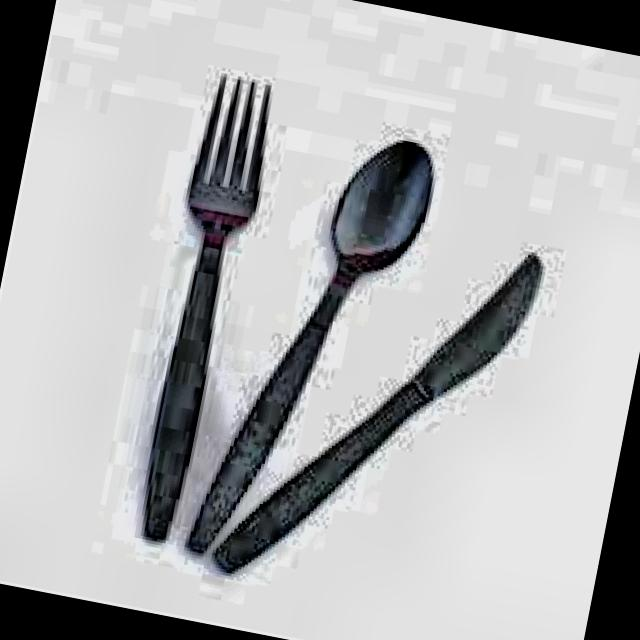plastic utensil: (214, 256, 537, 571), (187, 144, 433, 552), (148, 80, 271, 539)
